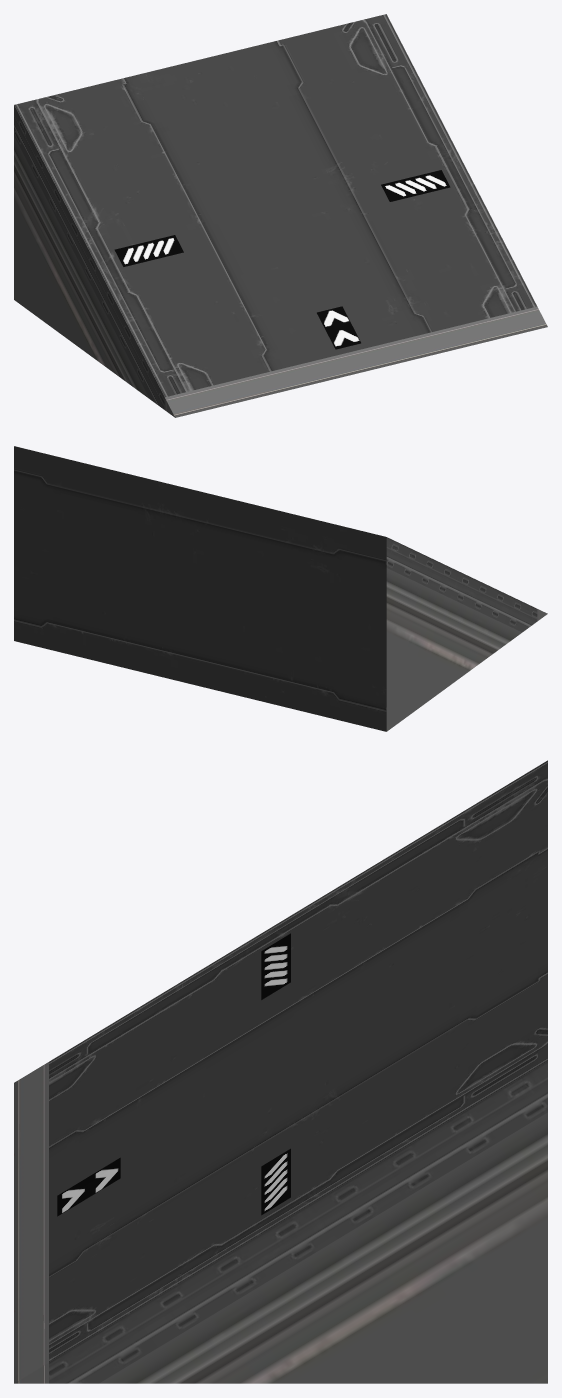
File: Platform_Ramp_2Short.glb
The picture shows the model from 3 angles, top to bottom: view 1: azimuth 30°, elevation 25°; view 2: azimuth 150°, elevation 25°; view 3: azimuth 270°, elevation 25°; orthographic projection. The views are drawn at different scales.
Parts seen in each view (by area): view 1: Platform_Ramp_2Short; view 2: Platform_Ramp_2Short; view 3: Platform_Ramp_2Short.
Part boxes in pixels (box(x1,y1,x2,y2)): Platform_Ramp_2Short: box(14, 14, 547, 417); Platform_Ramp_2Short: box(14, 446, 547, 731); Platform_Ramp_2Short: box(14, 760, 547, 1383).
Bounding box in the file's own units: 2 × 0.9999 × 1.5.
3 materials, 3 textured.
